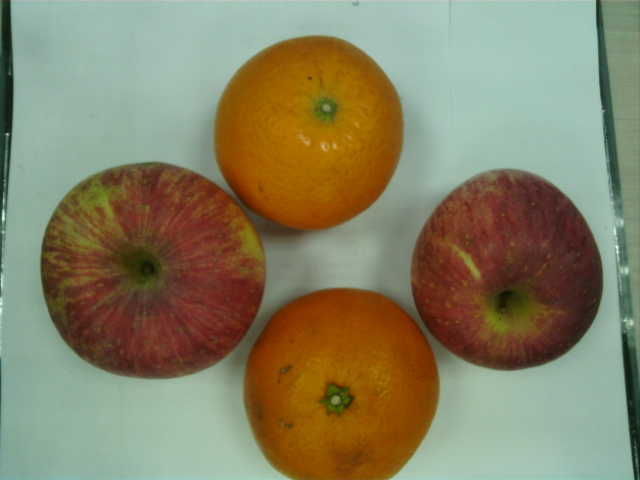normal_apple: (41, 163, 267, 378), (410, 170, 602, 371)
normal_orange: (245, 288, 440, 480), (213, 36, 404, 231)
